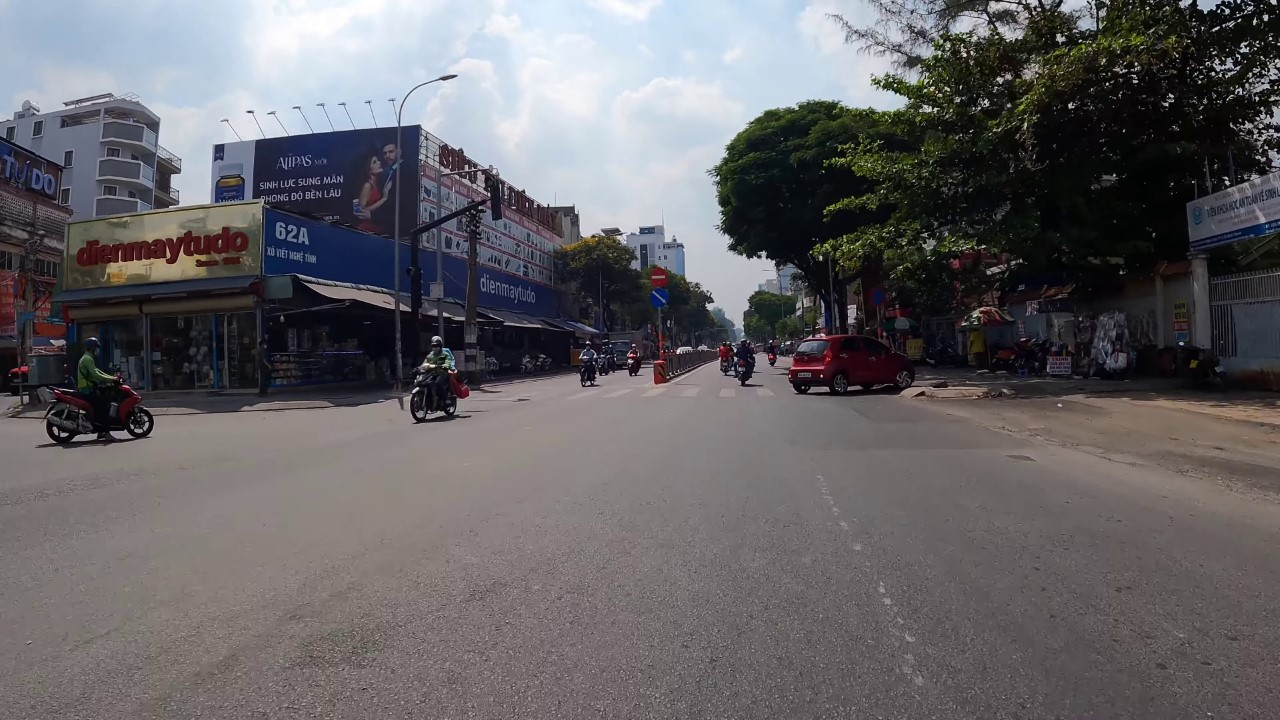cam_nguoc_chieu: (648, 266, 668, 288)
huong_phai_di_vong: (648, 288, 669, 307)
